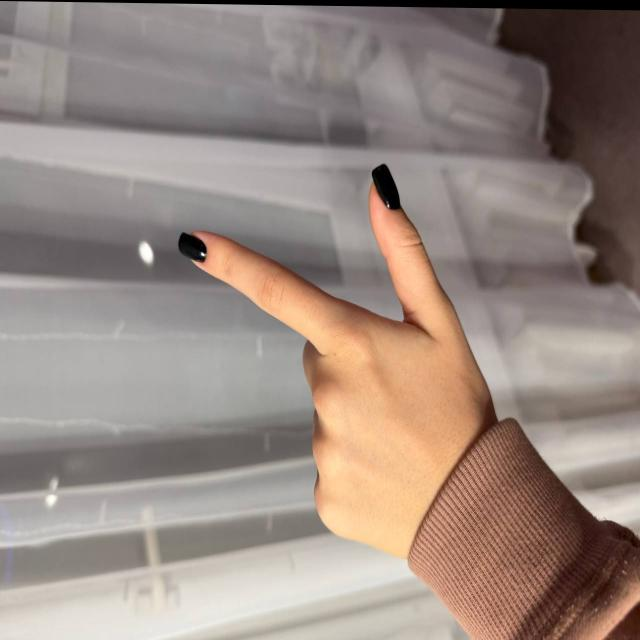-: (148, 149, 504, 572)
